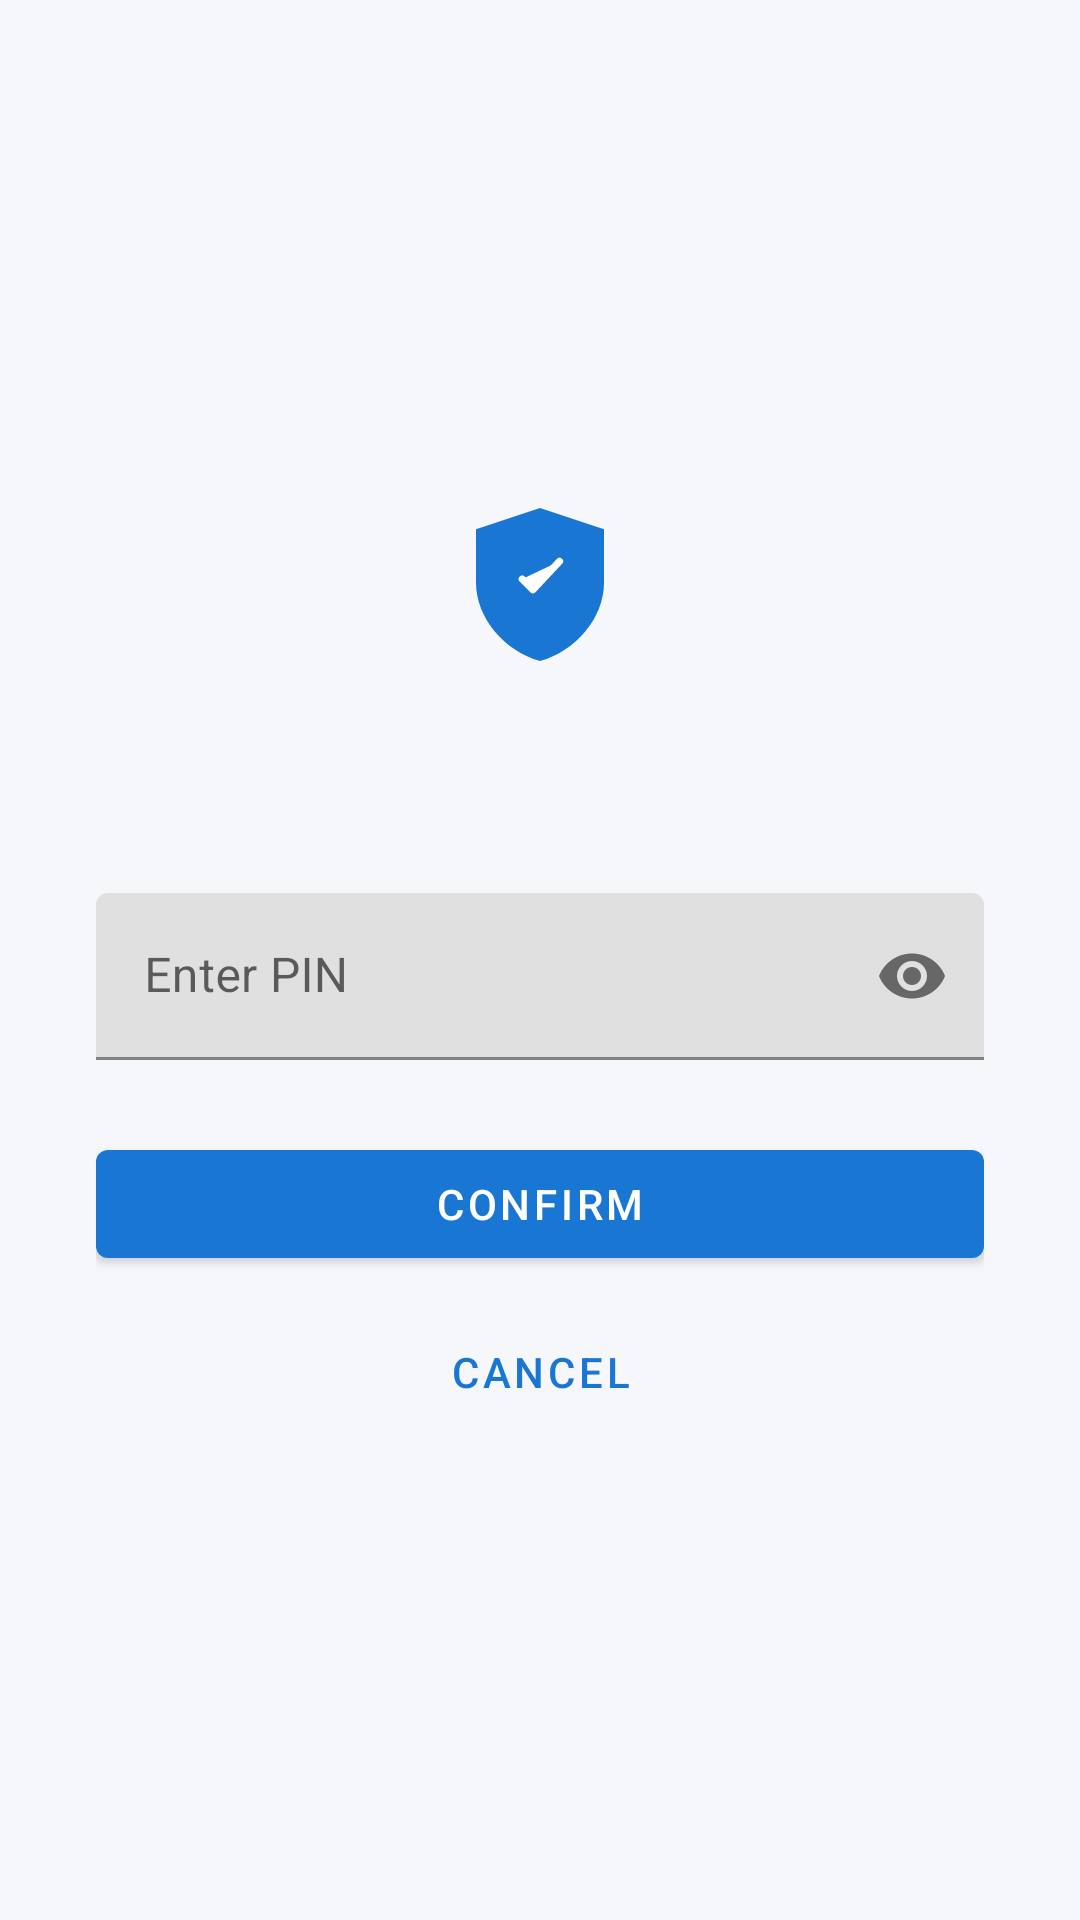

Icon bounding boxes for this 1080×1920 phone screenshot, format rect(x1, y1, x2, y2):
shield: rect(476, 508, 604, 661)
